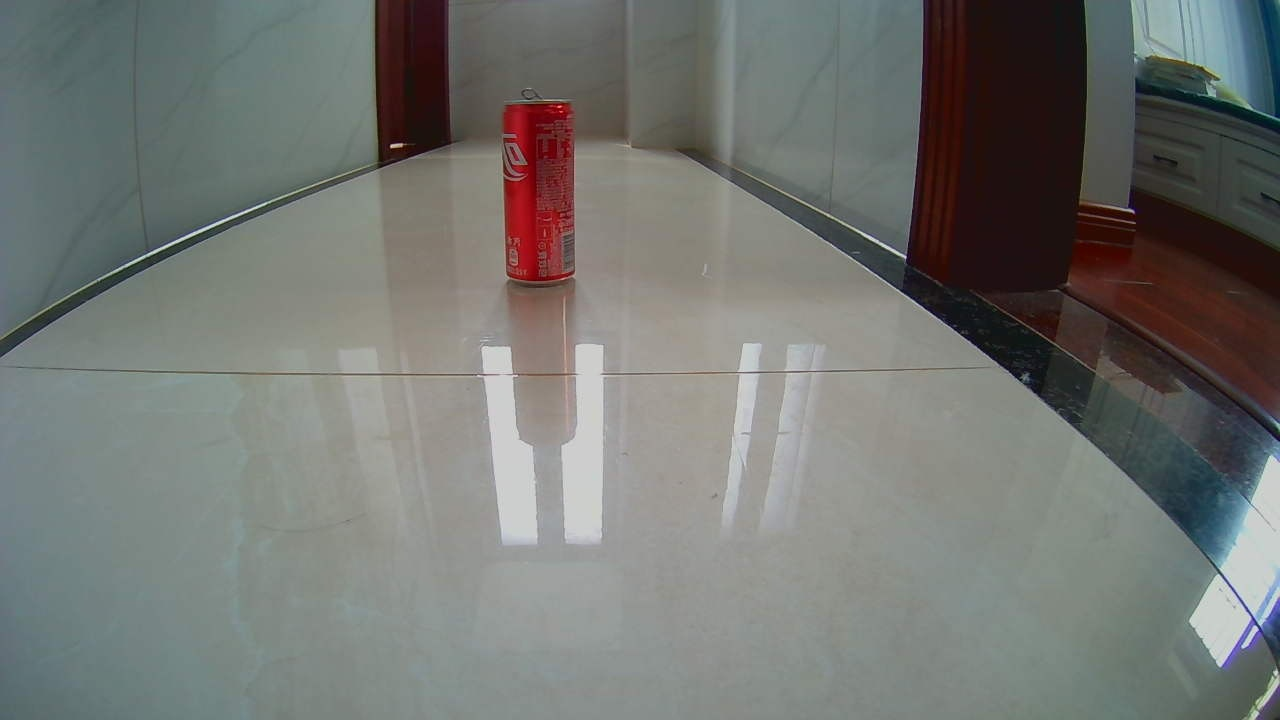cola: (507, 96, 575, 281)
